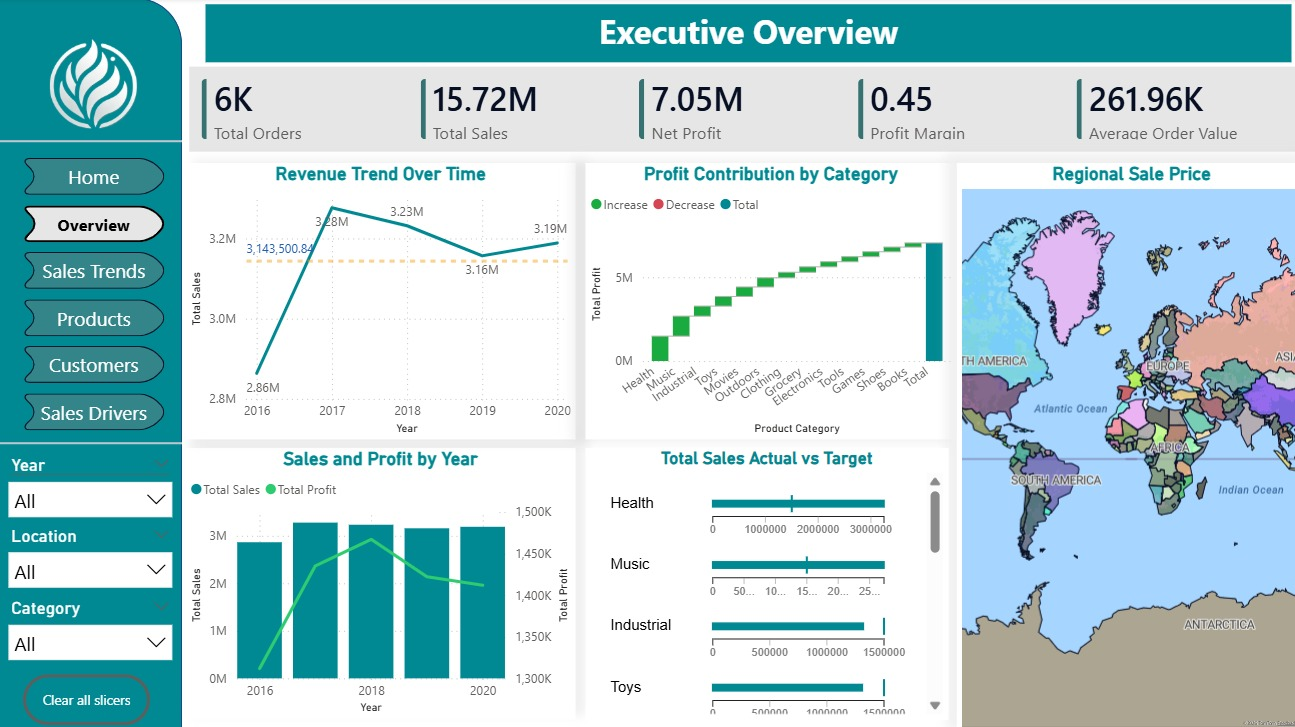

What the dashboard file says about the page in this screenshot:
{"tool":"powerbi","page":{"name":"Overview","canvas":[1280,720],"ordinal":1},"visuals":[{"type":"actionButton","box":[725.7,312.4,304,63.8],"z":0},{"type":"cardVisual","fields":{"Data":["FactSales.Total Orders","FactSales.Total Sales","FactSales.Total Profit","FactSales.Profit Margin %","FactSales.Average Order Value"]},"box":[182.4,62.9,1097.6,93.7],"z":1000},{"type":"textbox","box":[203.4,5.9,1062.4,57.1],"z":2000},{"type":"lineClusteredColumnComboChart","title":"Sales and Profit by Year","fields":{"Category":["DimDate.Order Date.Variation.Date Hierarchy.Year","DimDate.Order Date.Variation.Date Hierarchy.Quarter","DimDate.Order Date.Variation.Date Hierarchy.Month"],"Y":["FactSales.Total Sales"],"Y2":["FactSales.Total Profit"]},"box":[182.2,440.7,382.4,264.4],"z":3000},{"type":"lineChart","title":"Revenue Trend Over Time","fields":{"Category":["DimDate.Order Date.Variation.Date Hierarchy.Year","DimDate.Order Date.Variation.Date Hierarchy.Month"],"Y":["FactSales.Total Sales"]},"box":[182.9,161,382,270.7],"z":4000},{"type":"waterfallChart","title":"Profit Contribution by Category","fields":{"Category":["DimProduct.Product Category"],"Y":["FactSales.Total Profit"]},"box":[575.1,161,362.9,270.7],"z":5000},{"type":"filledMap","title":"Regional Sale Price","fields":{"Category":["FactSales.Country"],"Series":["FactSales.Sale Price"]},"box":[938,161,342.4,559],"z":6000},{"type":"actionButton","box":[41.8,673.7,140.4,37.3],"z":7000},{"type":"shape","box":[0,0,180,720],"z":8000},{"type":"pageNavigator","box":[20.5,156.6,146.3,267.8],"z":9000},{"type":"shape","box":[0,427.3,180,17.6],"z":10000},{"type":"shape","box":[0,128.8,180,23.4],"z":11000},{"type":"slicer","fields":{"Values":["E-Commerce Dataset.Order Year"]},"box":[0,442,180,71.7],"z":12000},{"type":"slicer","fields":{"Values":["FactSales.Country"]},"box":[0,510.7,180,80.5],"z":13000},{"type":"slicer","fields":{"Values":["E-Commerce Dataset.Product Category"]},"box":[0,582.4,180,80.5],"z":14000},{"type":"image","box":[24.9,29.3,102.4,99.5],"z":15000},{"type":"actionButton","box":[24.9,661.5,124.4,49.8],"z":16000},{"type":"BulletChart1443347686880","title":"Total Sales Actual vs Target","fields":{"TargetValue":["FactSales.Total Sales Target"],"Category":["DimProduct.Product Category"],"Value":["FactSales.Total Sales"]},"box":[565,440,328,265],"z":17000}]}

Visuals, with their boxes on the page's 1280x720 design canvas (x1, y1, x2, y2). These are canvas units, not pixel positions in the 1295x727 screenshot, which may show the page scaled, cropped or inside an application window:
actionButton: {"x1": 726, "y1": 312, "x2": 1030, "y2": 376}
cardVisual - FactSales.Total Orders x FactSales.Total Sales: {"x1": 182, "y1": 63, "x2": 1280, "y2": 157}
textbox: {"x1": 203, "y1": 6, "x2": 1266, "y2": 63}
"Sales and Profit by Year" lineClusteredColumnComboChart: {"x1": 182, "y1": 441, "x2": 565, "y2": 705}
"Revenue Trend Over Time" lineChart: {"x1": 183, "y1": 161, "x2": 565, "y2": 432}
"Profit Contribution by Category" waterfallChart: {"x1": 575, "y1": 161, "x2": 938, "y2": 432}
"Regional Sale Price" filledMap: {"x1": 938, "y1": 161, "x2": 1280, "y2": 720}
actionButton: {"x1": 42, "y1": 674, "x2": 182, "y2": 711}
shape: {"x1": 0, "y1": 0, "x2": 180, "y2": 720}
pageNavigator: {"x1": 20, "y1": 157, "x2": 167, "y2": 424}
shape: {"x1": 0, "y1": 427, "x2": 180, "y2": 445}
shape: {"x1": 0, "y1": 129, "x2": 180, "y2": 152}
slicer - E-Commerce Dataset.Order Year: {"x1": 0, "y1": 442, "x2": 180, "y2": 514}
slicer - FactSales.Country: {"x1": 0, "y1": 511, "x2": 180, "y2": 591}
slicer - E-Commerce Dataset.Product Category: {"x1": 0, "y1": 582, "x2": 180, "y2": 663}
image: {"x1": 25, "y1": 29, "x2": 127, "y2": 129}
actionButton: {"x1": 25, "y1": 662, "x2": 149, "y2": 711}
"Total Sales Actual vs Target" BulletChart1443347686880: {"x1": 565, "y1": 440, "x2": 893, "y2": 705}
